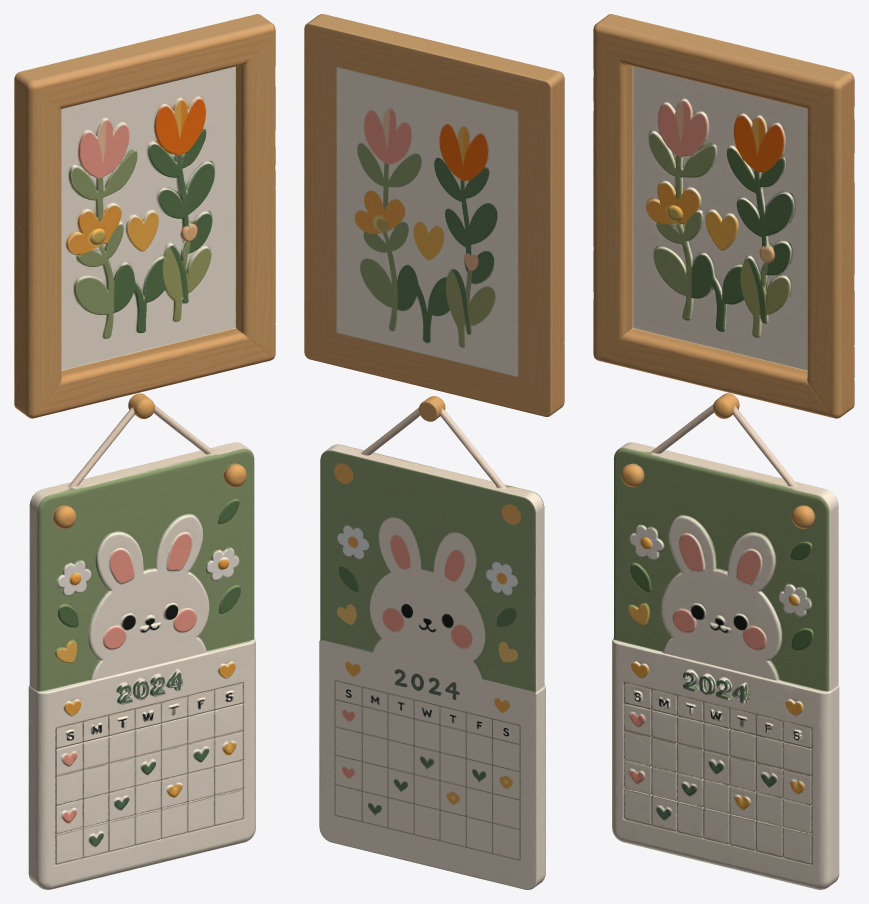
File: wall-decor.glb
The picture shows the model from 3 angles, left to right: view 1: azimuth 30°, elevation 25°; view 2: azimuth 150°, elevation 25°; view 3: azimuth 330°, elevation 25°; orthographic projection.
Bounding box in the file's own units: 0.6048 × 1.9 × 0.0733.
Materials: 1 (1 with a texture image).
